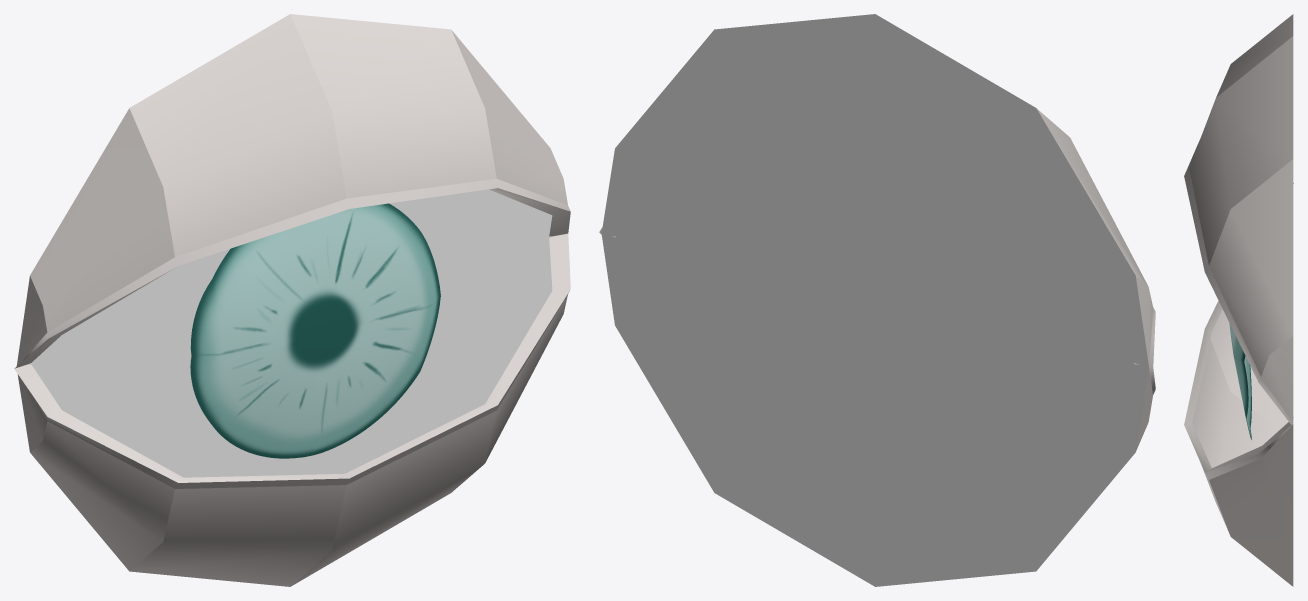
Rendered from EyeCamera.fbx.
The picture shows the model from 3 angles, left to right: view 1: azimuth 30°, elevation 25°; view 2: azimuth 150°, elevation 25°; view 3: azimuth 270°, elevation 25°; orthographic projection. The views are drawn at different scales.
Parts seen in each view (by area): view 1: eyelids, white, pupil; view 2: white, eyelids; view 3: eyelids, pupil.
Boxes of the visible parts, left/top/right/bottom form: eyelids: left=14, top=14, right=570, bottom=586; white: left=26, top=189, right=553, bottom=477; pupil: left=190, top=203, right=440, bottom=458; white: left=601, top=14, right=1148, bottom=586; eyelids: left=599, top=108, right=1155, bottom=450; eyelids: left=1184, top=14, right=1293, bottom=586; pupil: left=1229, top=323, right=1251, bottom=439.
Size of the model in its own units: 138 by 137 by 25.75.
